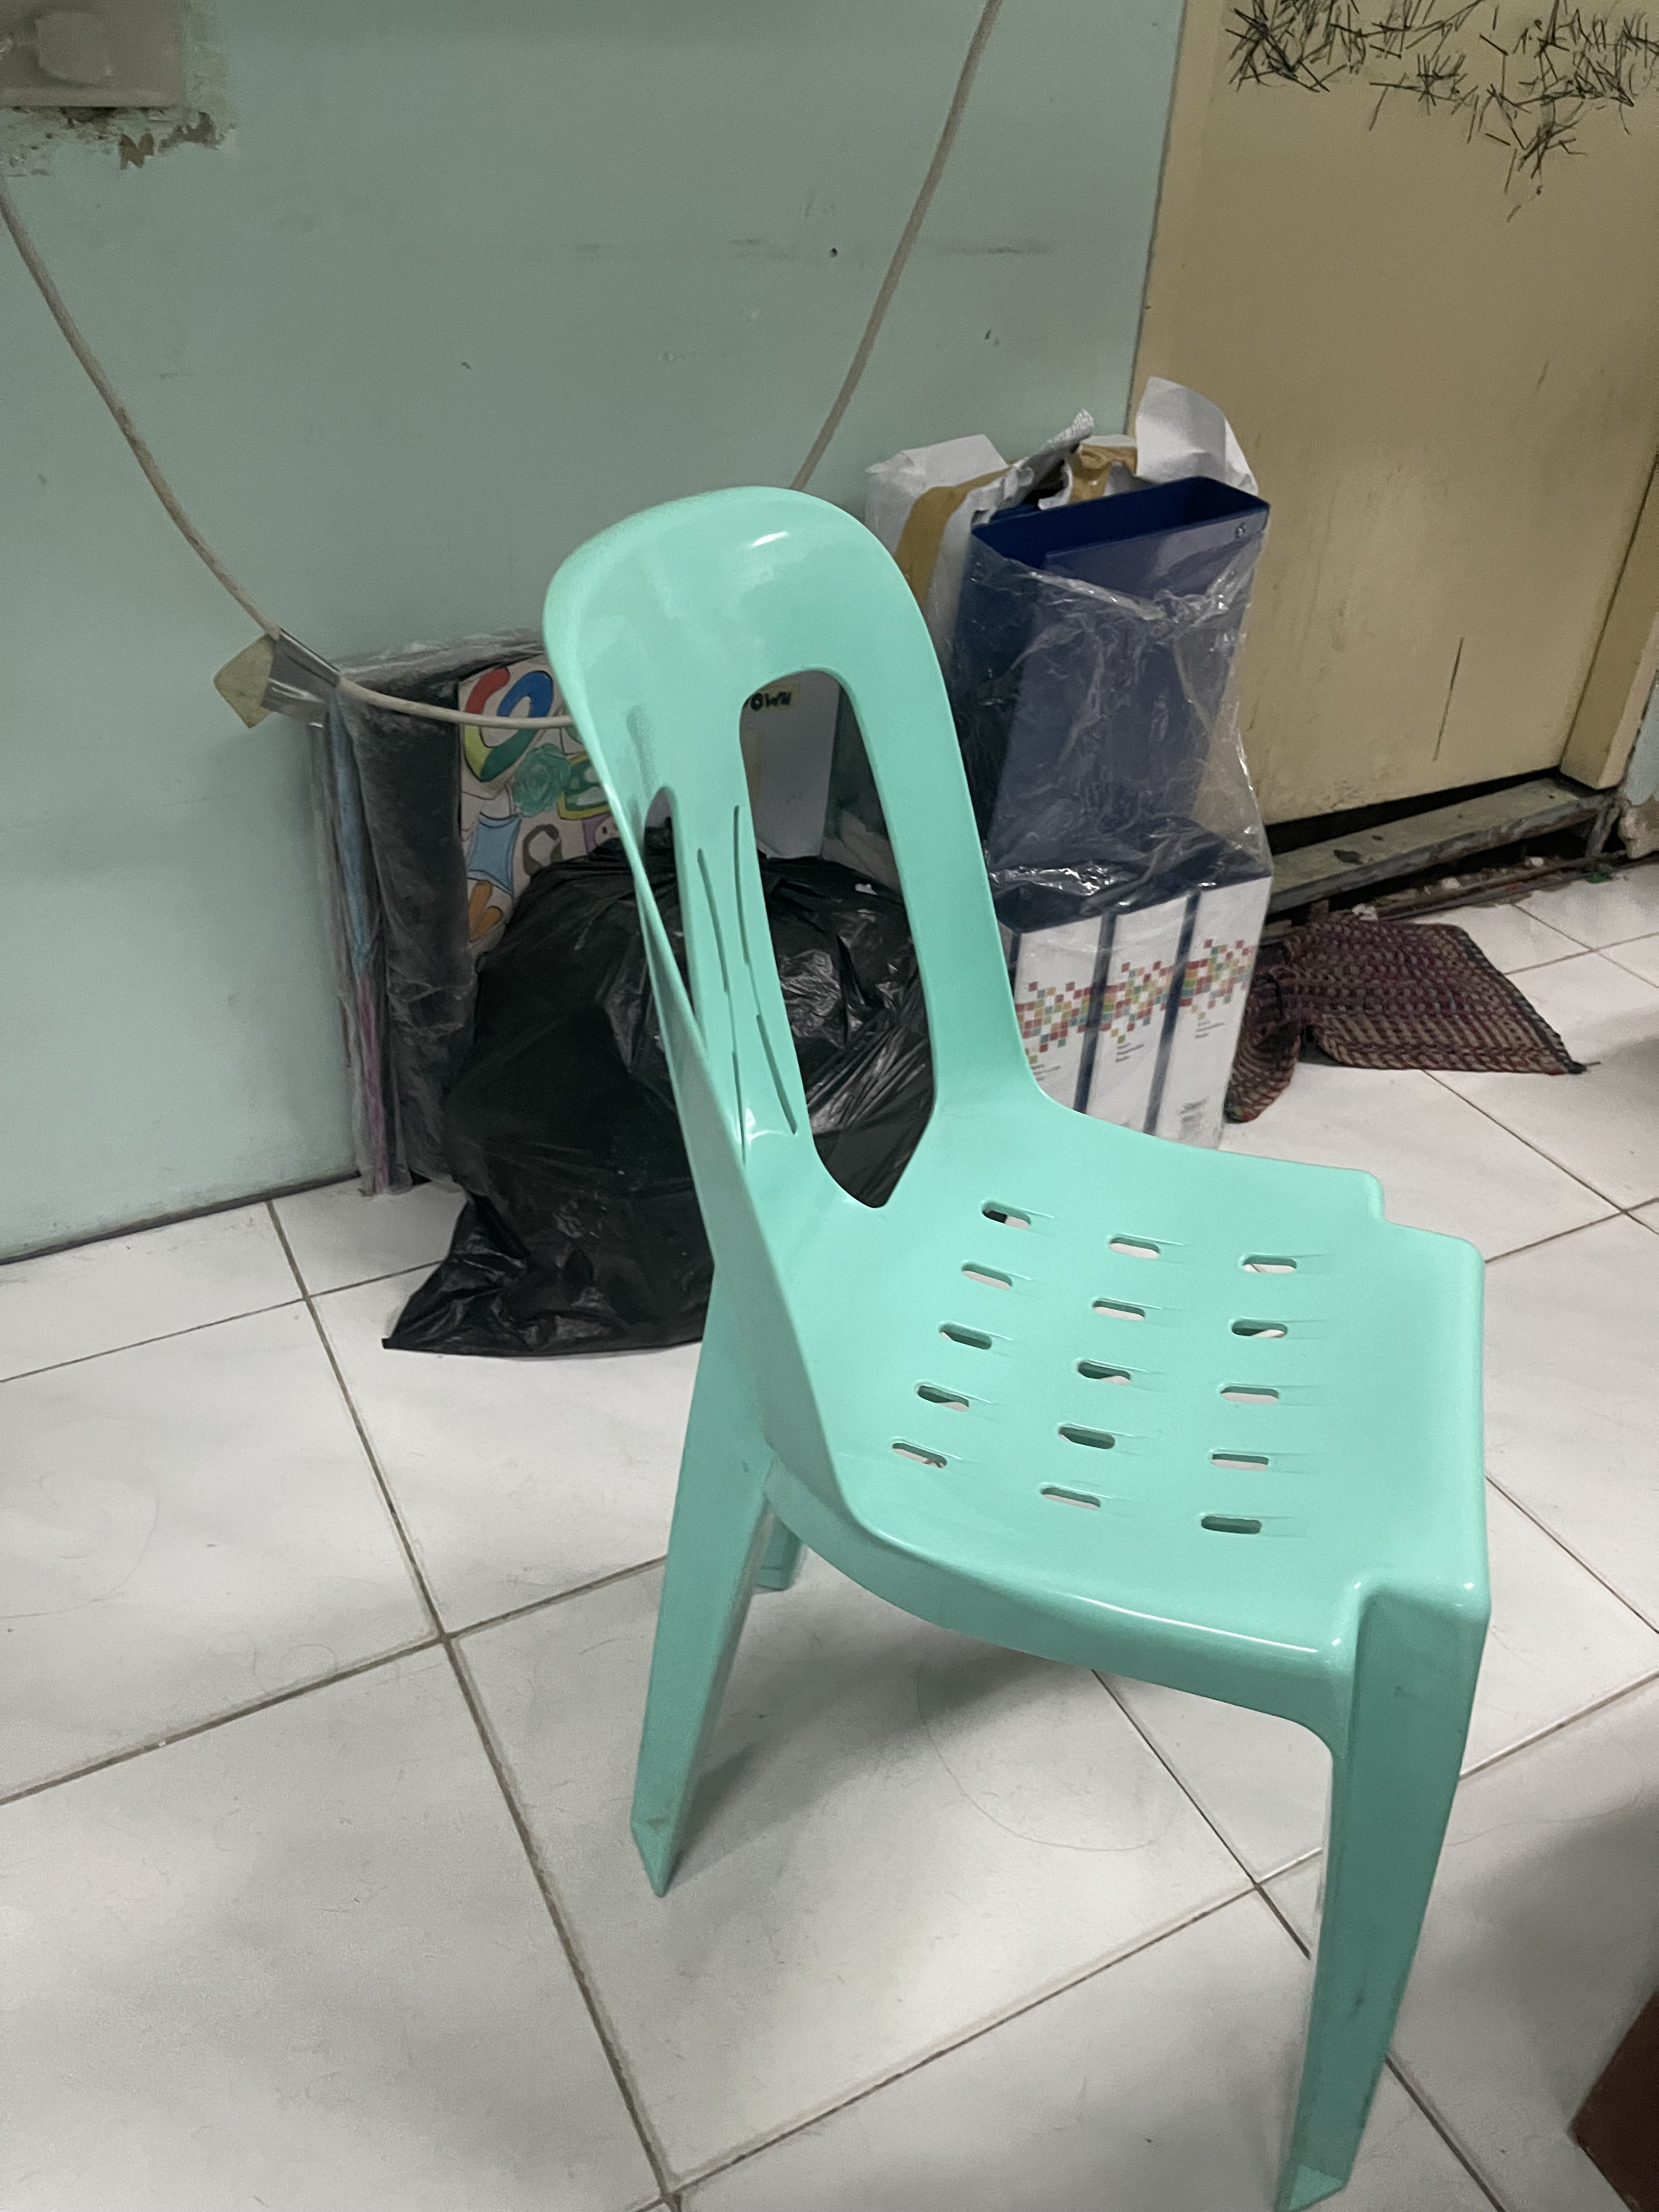chair2: (533, 482, 1492, 2212)
